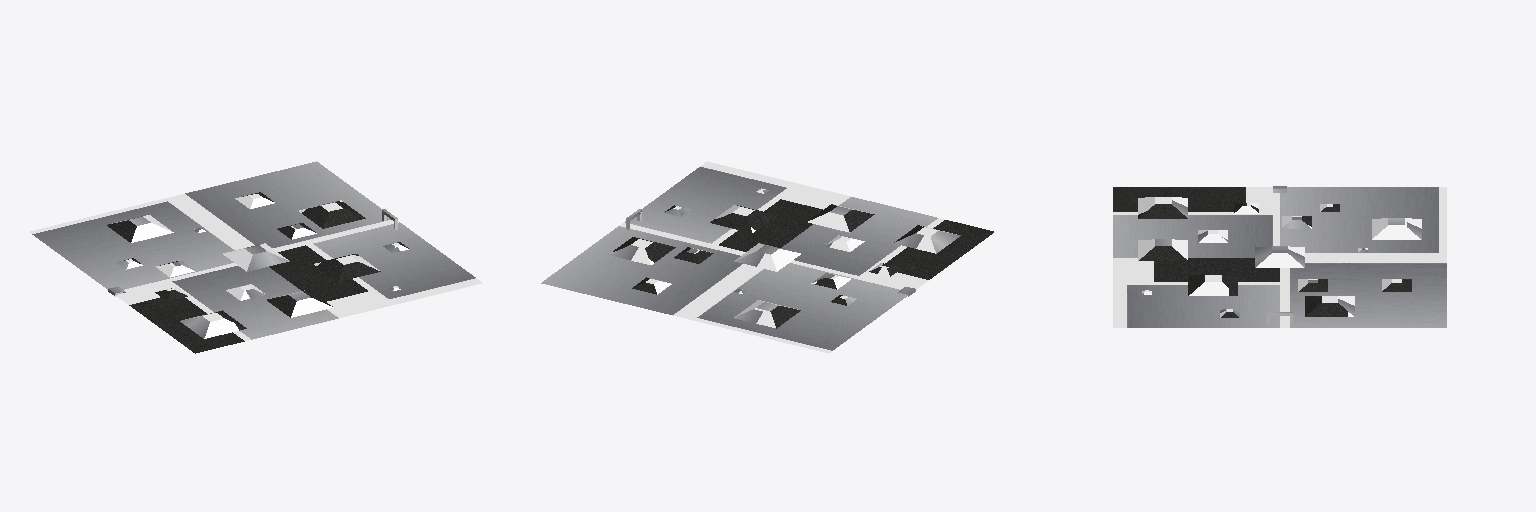
3 renders of one model, left to right at view 1: azimuth 30°, elevation 25°; view 2: azimuth 150°, elevation 25°; view 3: azimuth 270°, elevation 25°, orthographic.
Visible parts, largest first — view 1: Plane; view 2: Plane; view 3: Plane.
Boxes of the visible parts, <box> form: Plane: <box>30,161,482,353</box>; Plane: <box>541,161,993,353</box>; Plane: <box>1113,186,1446,327</box>.
Bounding box in the file's own units: 200 × 12 × 200.
1 materials, 1 textured.